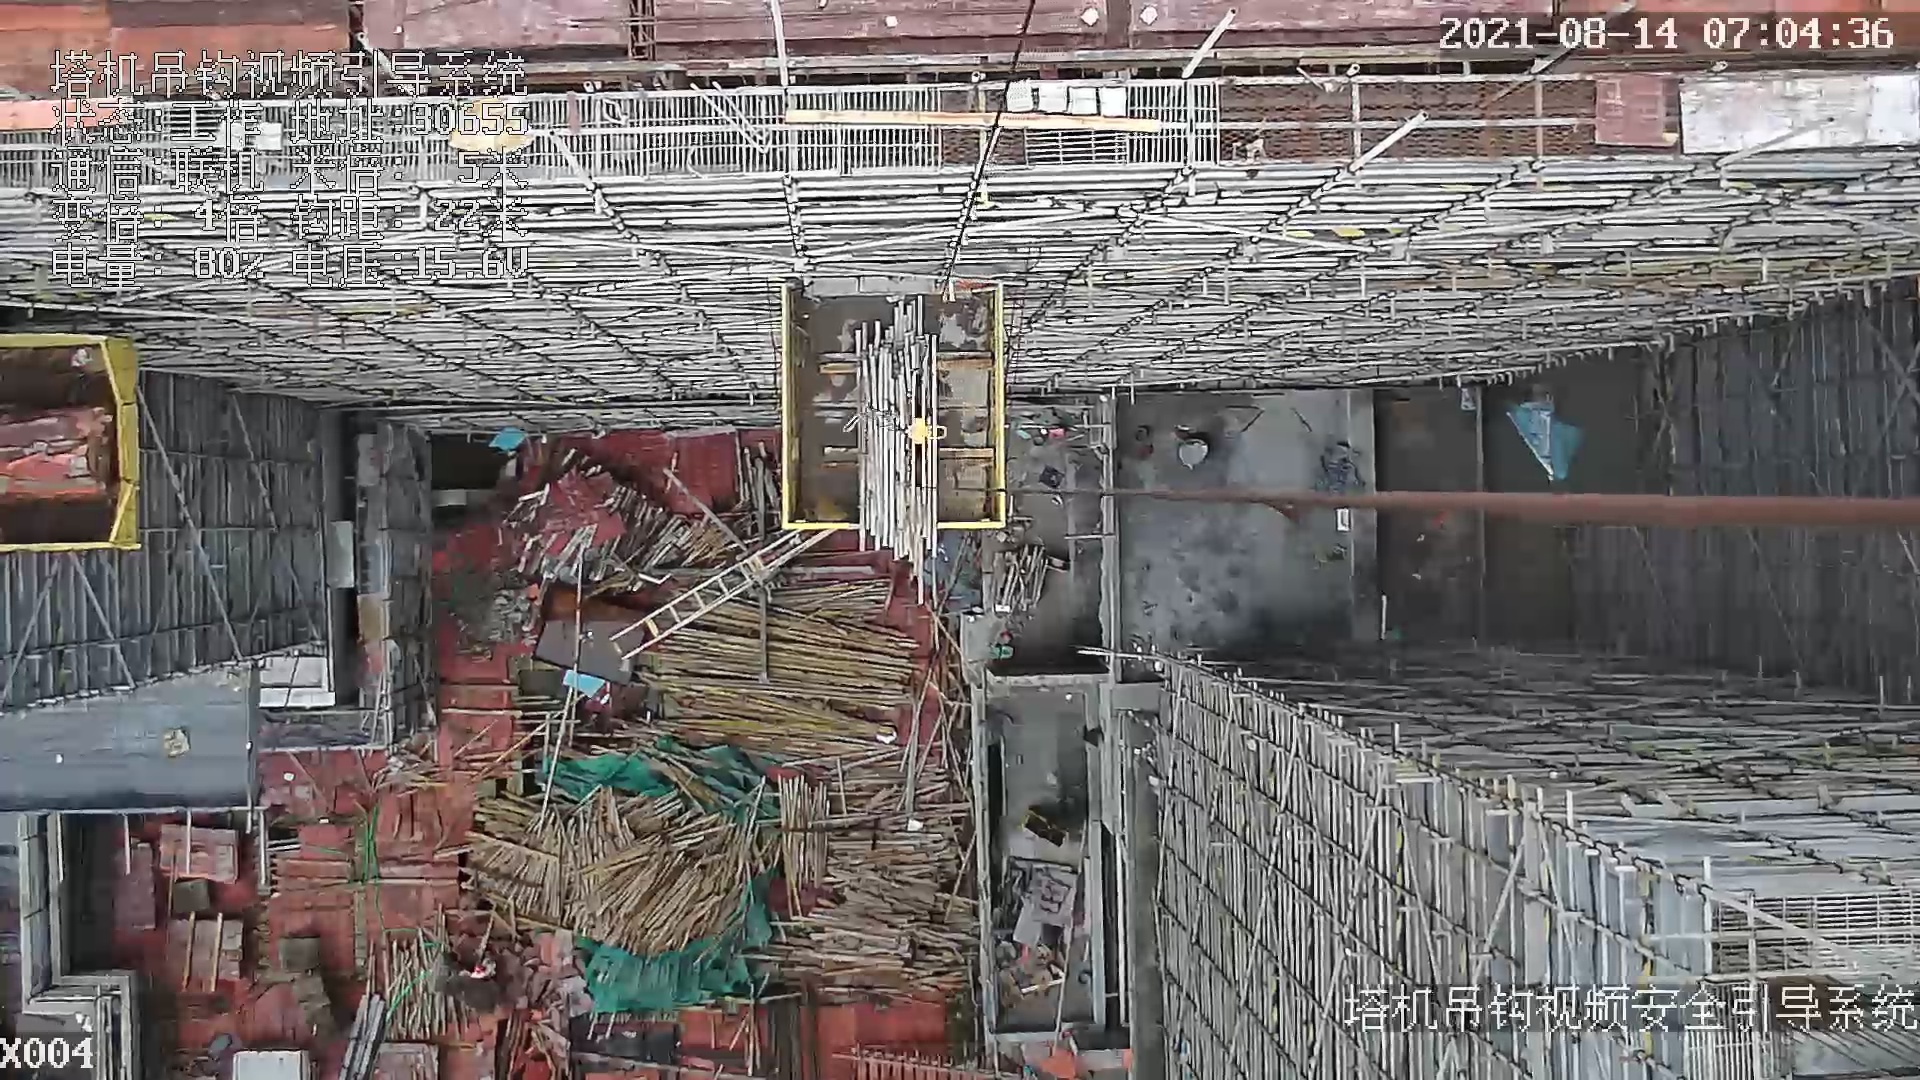hook: (905, 367, 931, 516)
